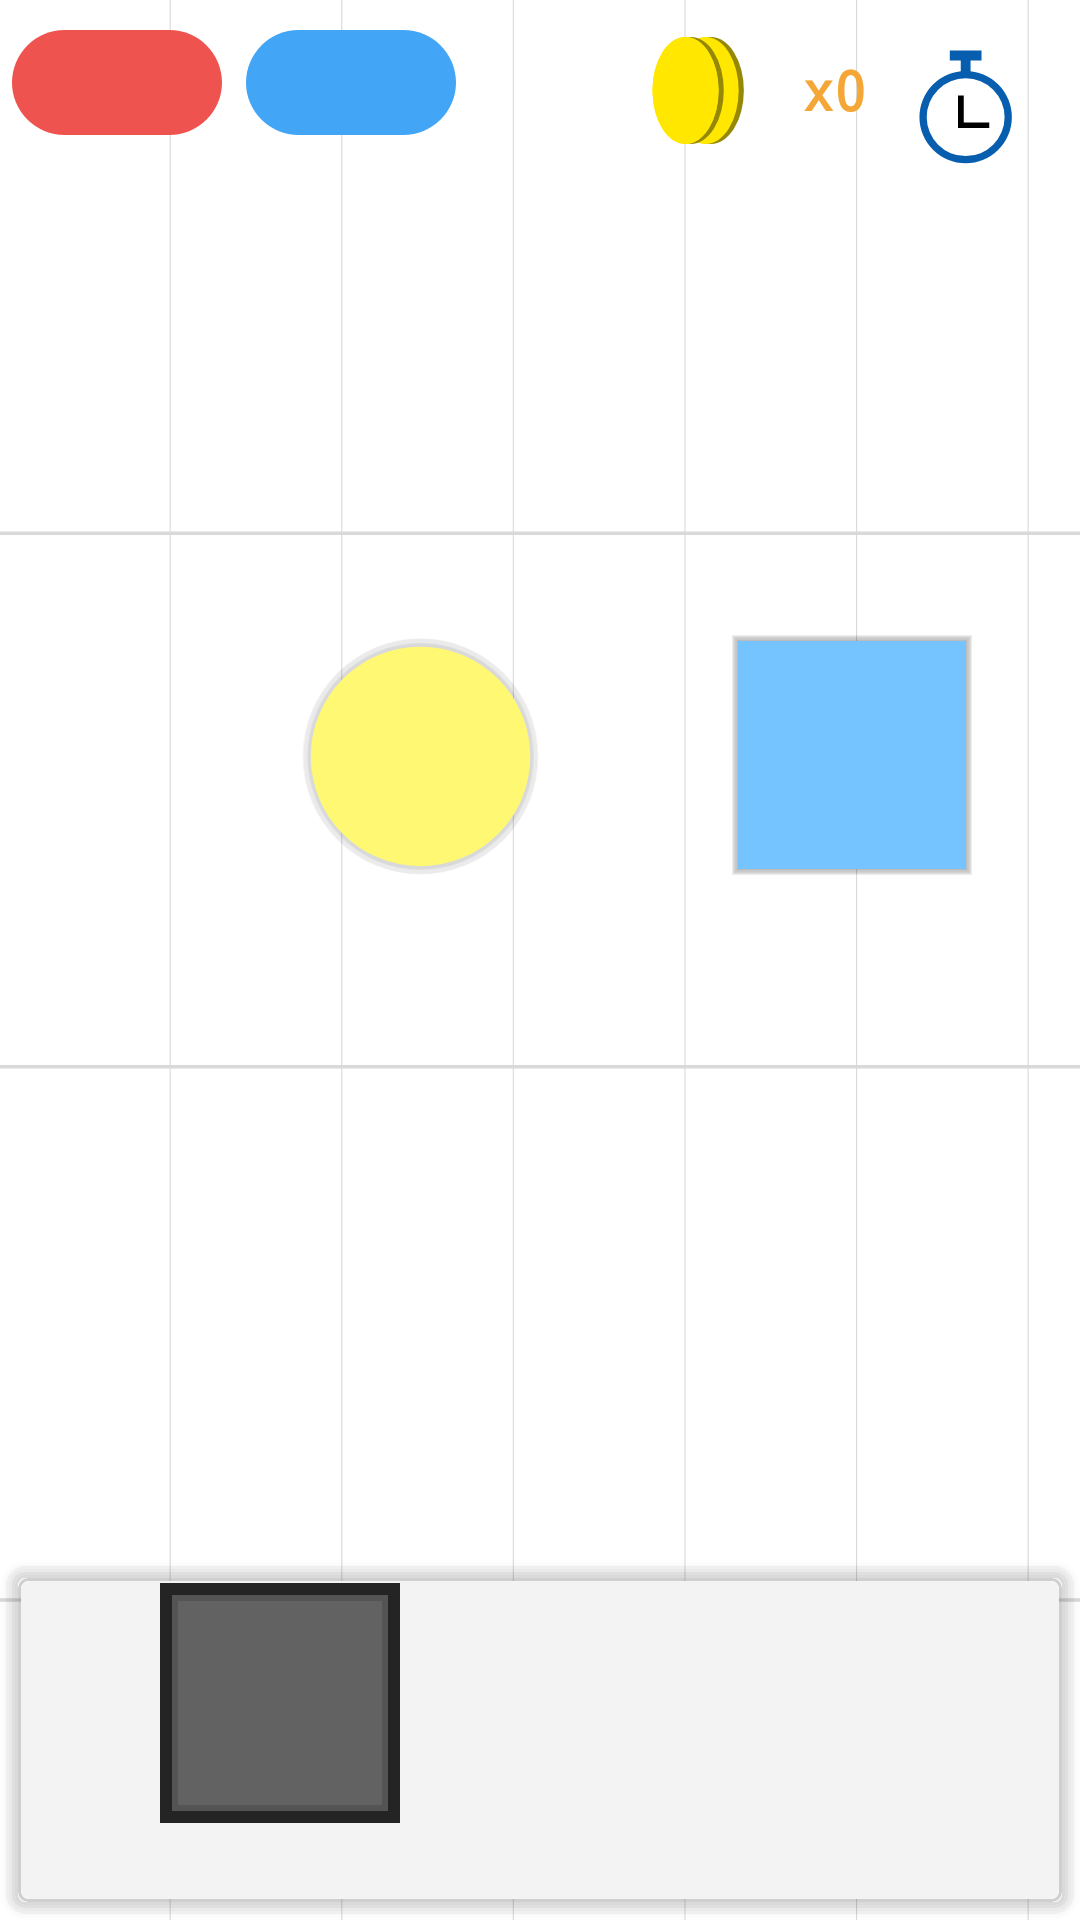

Where to tap for icons on this 1080px x 1920px app screen, as point (x, y):
monedas: point (698, 90)
timer: point (965, 107)
